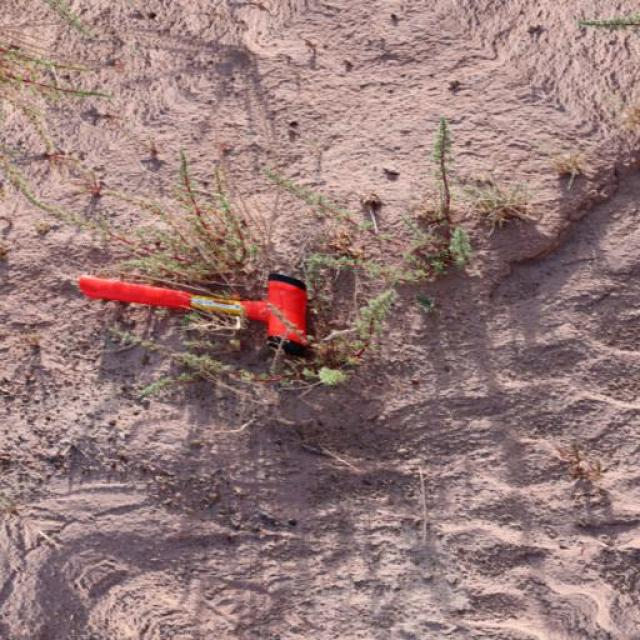mallet: (75, 269, 311, 356)
